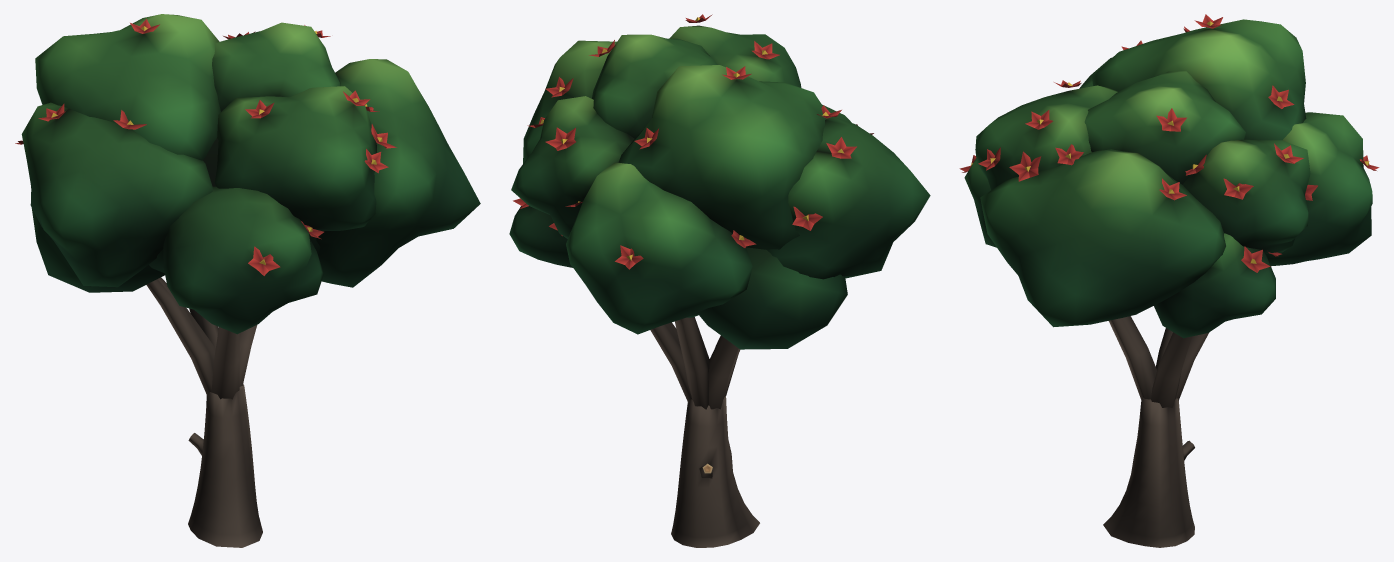
File: tree-camellia-v1.glb
The picture shows the model from 3 angles, left to right: view 1: azimuth 30°, elevation 25°; view 2: azimuth 150°, elevation 25°; view 3: azimuth 270°, elevation 25°; orthographic projection.
Visible parts, largest first — view 1: 1_leaves, 0_trunk; view 2: 1_leaves, 0_trunk; view 3: 1_leaves, 0_trunk.
Part boxes in pixels (<box>): 1_leaves: <box>15,14,480,334</box>; 0_trunk: <box>146,277,262,547</box>; 1_leaves: <box>509,14,930,349</box>; 0_trunk: <box>650,317,759,547</box>; 1_leaves: <box>959,14,1379,338</box>; 0_trunk: <box>1103,316,1209,547</box>.
Bounding box in the file's own units: 3.14 × 3.81 × 2.99.
